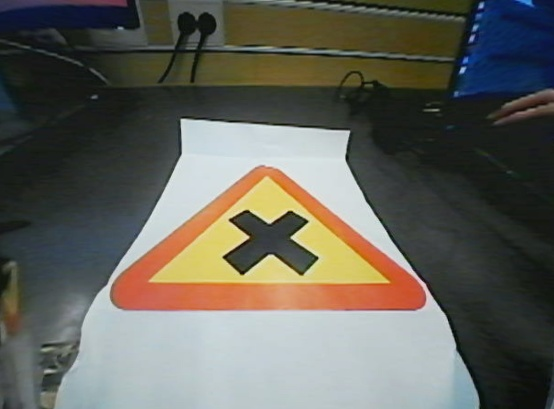junction: (110, 155, 449, 321)
